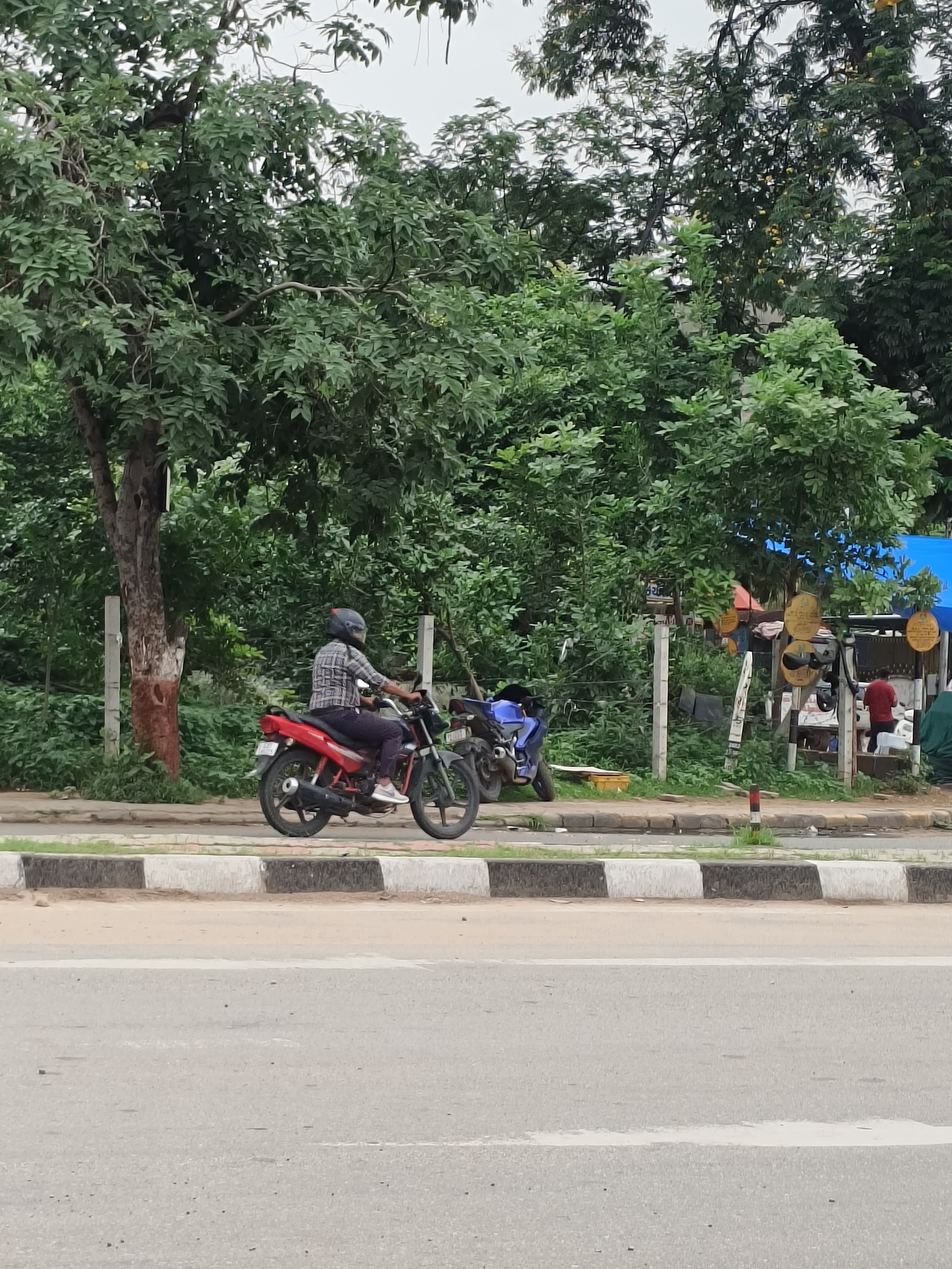BikeWithRider: (244, 601, 491, 846)
Helmet: (320, 603, 373, 654)
